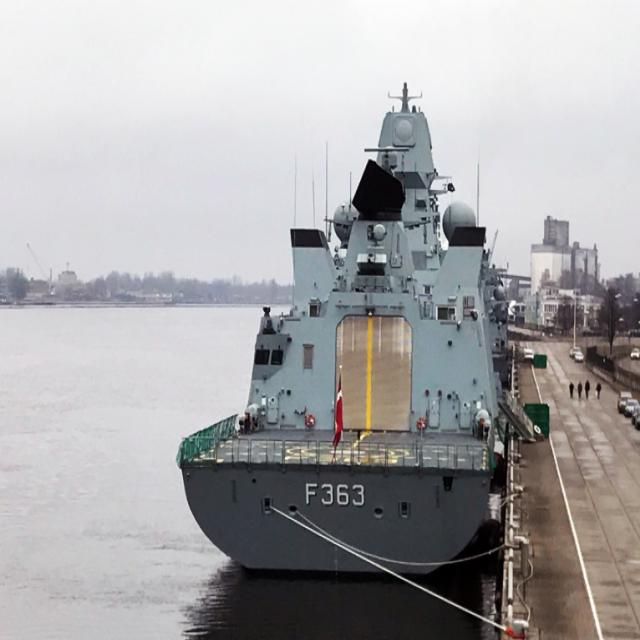Fragata: (178, 76, 516, 581)
